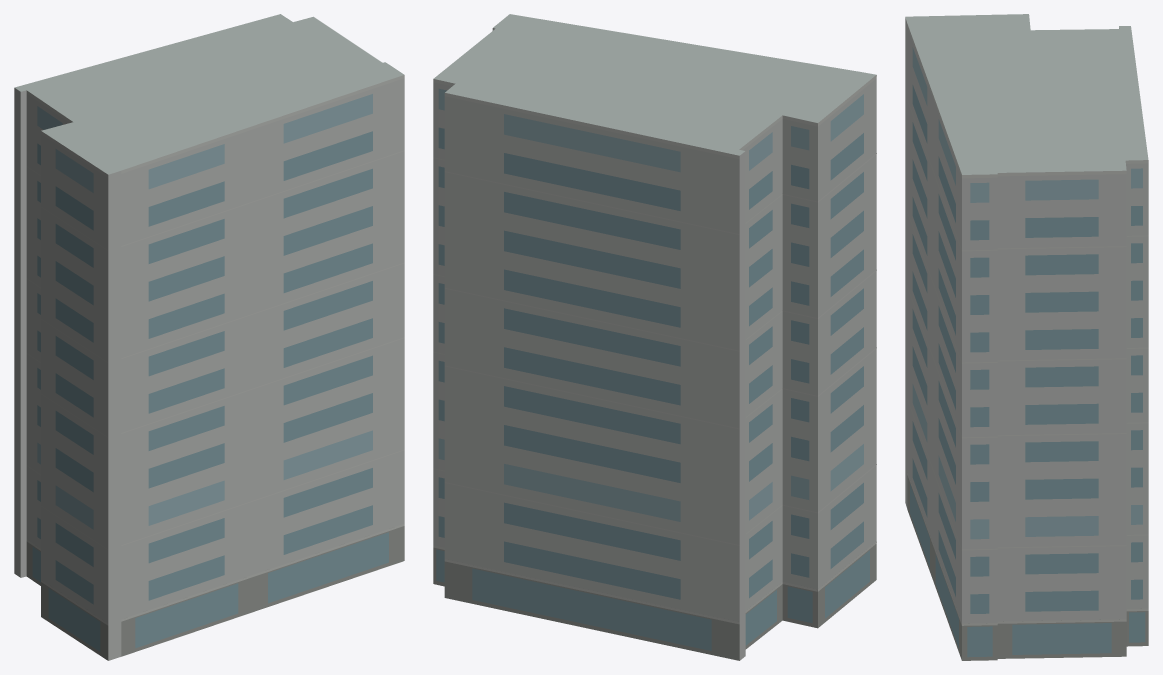
File: survey-upis-32739889.glb
3 views of the same model, side by side, from view 1: azimuth 30°, elevation 25°; view 2: azimuth 150°, elevation 25°; view 3: azimuth 270°, elevation 25° (orthographic). The views are drawn at different scales.
Parts seen in each view (by area): view 1: survey-upis-32739889.tmp; view 2: survey-upis-32739889.tmp; view 3: survey-upis-32739889.tmp.
Boxes of the visible parts, <box> form: survey-upis-32739889.tmp: <box>14,14,404,660</box>; survey-upis-32739889.tmp: <box>433,14,876,660</box>; survey-upis-32739889.tmp: <box>905,14,1148,660</box>.
Bounding box in the file's own units: 24.82 × 34.9 × 15.85.
